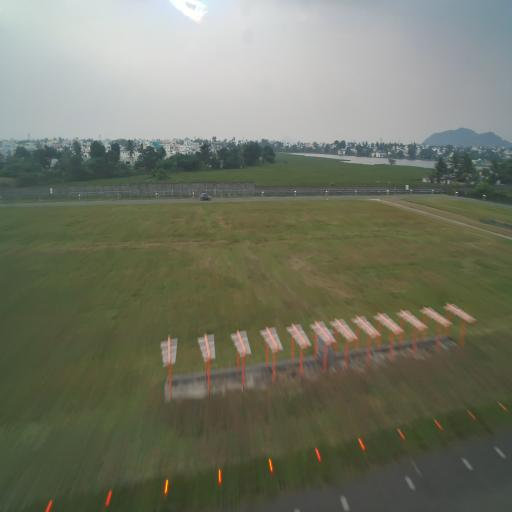on: (101, 485, 114, 512), (395, 423, 408, 449), (429, 413, 445, 434), (214, 465, 228, 488), (264, 456, 278, 478), (162, 473, 174, 498), (355, 433, 367, 455), (43, 492, 56, 512), (465, 406, 478, 426), (314, 442, 324, 467), (498, 396, 509, 416)
